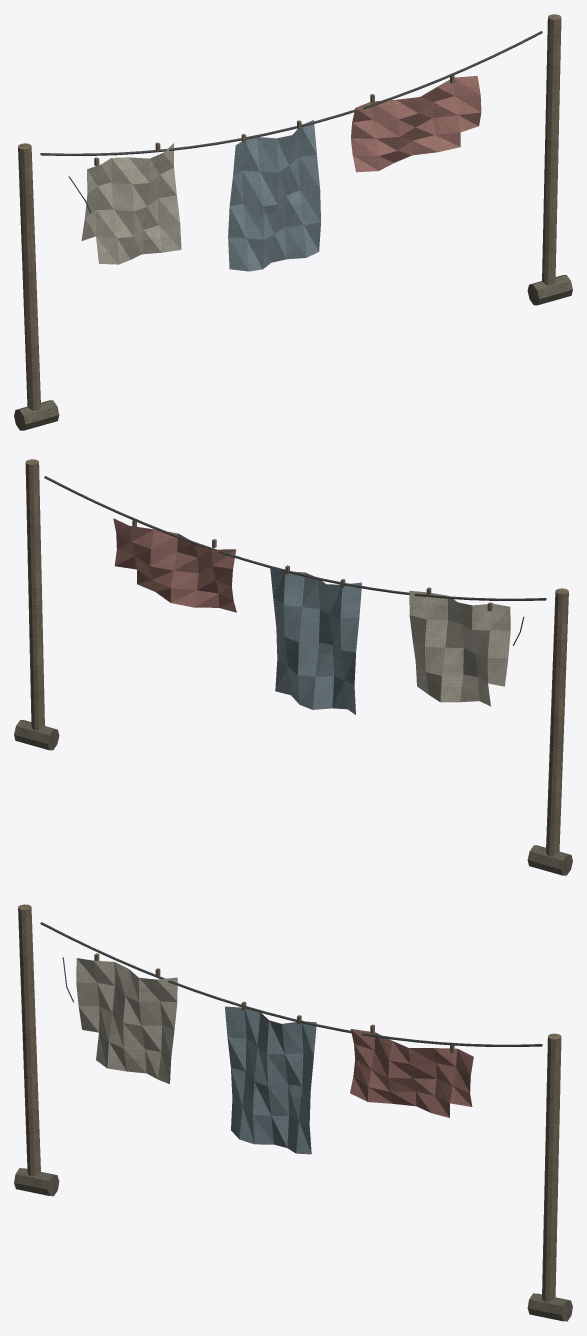
Rendered from torn_clothesline.glb.
3 views of the same model, one above another, from view 1: azimuth 30°, elevation 25°; view 2: azimuth 150°, elevation 25°; view 3: azimuth 330°, elevation 25° (orthographic).
Visible parts, largest first — view 1: AshfallDecorativeProp; view 2: AshfallDecorativeProp; view 3: AshfallDecorativeProp.
Part boxes in pixels (x1,y1,x2,y2): AshfallDecorativeProp: (14,14,572,430); AshfallDecorativeProp: (14,459,572,875); AshfallDecorativeProp: (14,904,572,1321).
Bounding box in the file's own units: 4.38 × 2.16 × 0.2139.
7 materials, 7 textured.
